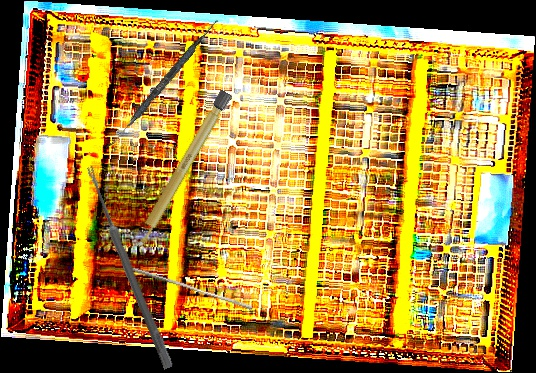Pusher: (129, 266, 255, 311)
Scalpel Handle: (130, 88, 233, 252)
Spatula Surgical: (105, 15, 220, 154)
Surgical Spoon: (83, 165, 175, 370)
